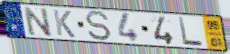4: (117, 11, 140, 45), (153, 15, 175, 46)
K: (51, 8, 77, 39)
L: (177, 16, 205, 48)
N: (22, 6, 54, 38)
S: (83, 10, 113, 42)
